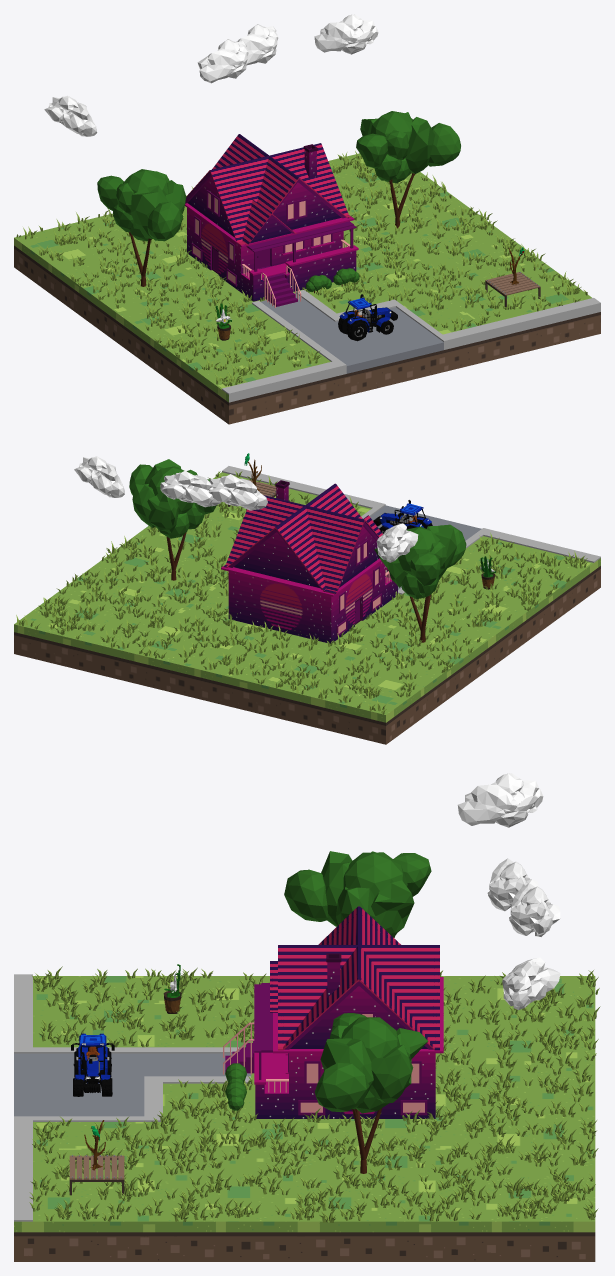
3 views of the same model, one above another, from view 1: azimuth 30°, elevation 25°; view 2: azimuth 150°, elevation 25°; view 3: azimuth 270°, elevation 25° (orthographic). The views are drawn at different scales.
Parts seen in each view (by area): view 1: Cube.006, Cube.156, Circle.012_Grass_0.192, Cube.007, tree, tree.001, VEHICLES_TRACTOR, Cube.009; view 2: Cube.006, Cube.156, Circle.012_Grass_0.192, Cube.007, tree.001, tree, VEHICLES_TRACTOR; view 3: Cube.006, Circle.012_Grass_0.192, Cube.156, tree, Cube.007, tree.001, VEHICLES_TRACTOR, Cube.009.
Part boxes in pixels (box(x1,y1,x2,y2)): Cube.006: box(14, 153, 600, 424); Cube.156: box(185, 134, 358, 307); Circle.012_Grass_0.192: box(16, 151, 587, 386); Cube.007: box(44, 14, 378, 136); tree: box(356, 111, 460, 228); tree.001: box(97, 169, 186, 286); VEHICLES_TRACTOR: box(338, 294, 397, 341); Cube.009: box(485, 272, 540, 306); Cube.006: box(14, 466, 600, 744); Cube.156: box(221, 480, 397, 643); Circle.012_Grass_0.192: box(16, 471, 587, 714); Cube.007: box(74, 456, 418, 562); tree.001: box(374, 524, 466, 642); tree: box(129, 459, 216, 580); VEHICLES_TRACTOR: box(373, 500, 432, 533); Cube.006: box(14, 974, 595, 1261); Circle.012_Grass_0.192: box(29, 966, 600, 1222); Cube.156: box(223, 906, 443, 1118); tree: box(314, 1013, 428, 1173); Cube.007: box(457, 773, 560, 1010); tree.001: box(284, 851, 431, 937); VEHICLES_TRACTOR: box(71, 1033, 114, 1096); Cube.009: box(69, 1155, 124, 1195).
Bounding box in the file's own units: 4071 × 2175 × 4040.
Materials: 36 (5 with a texture image).
